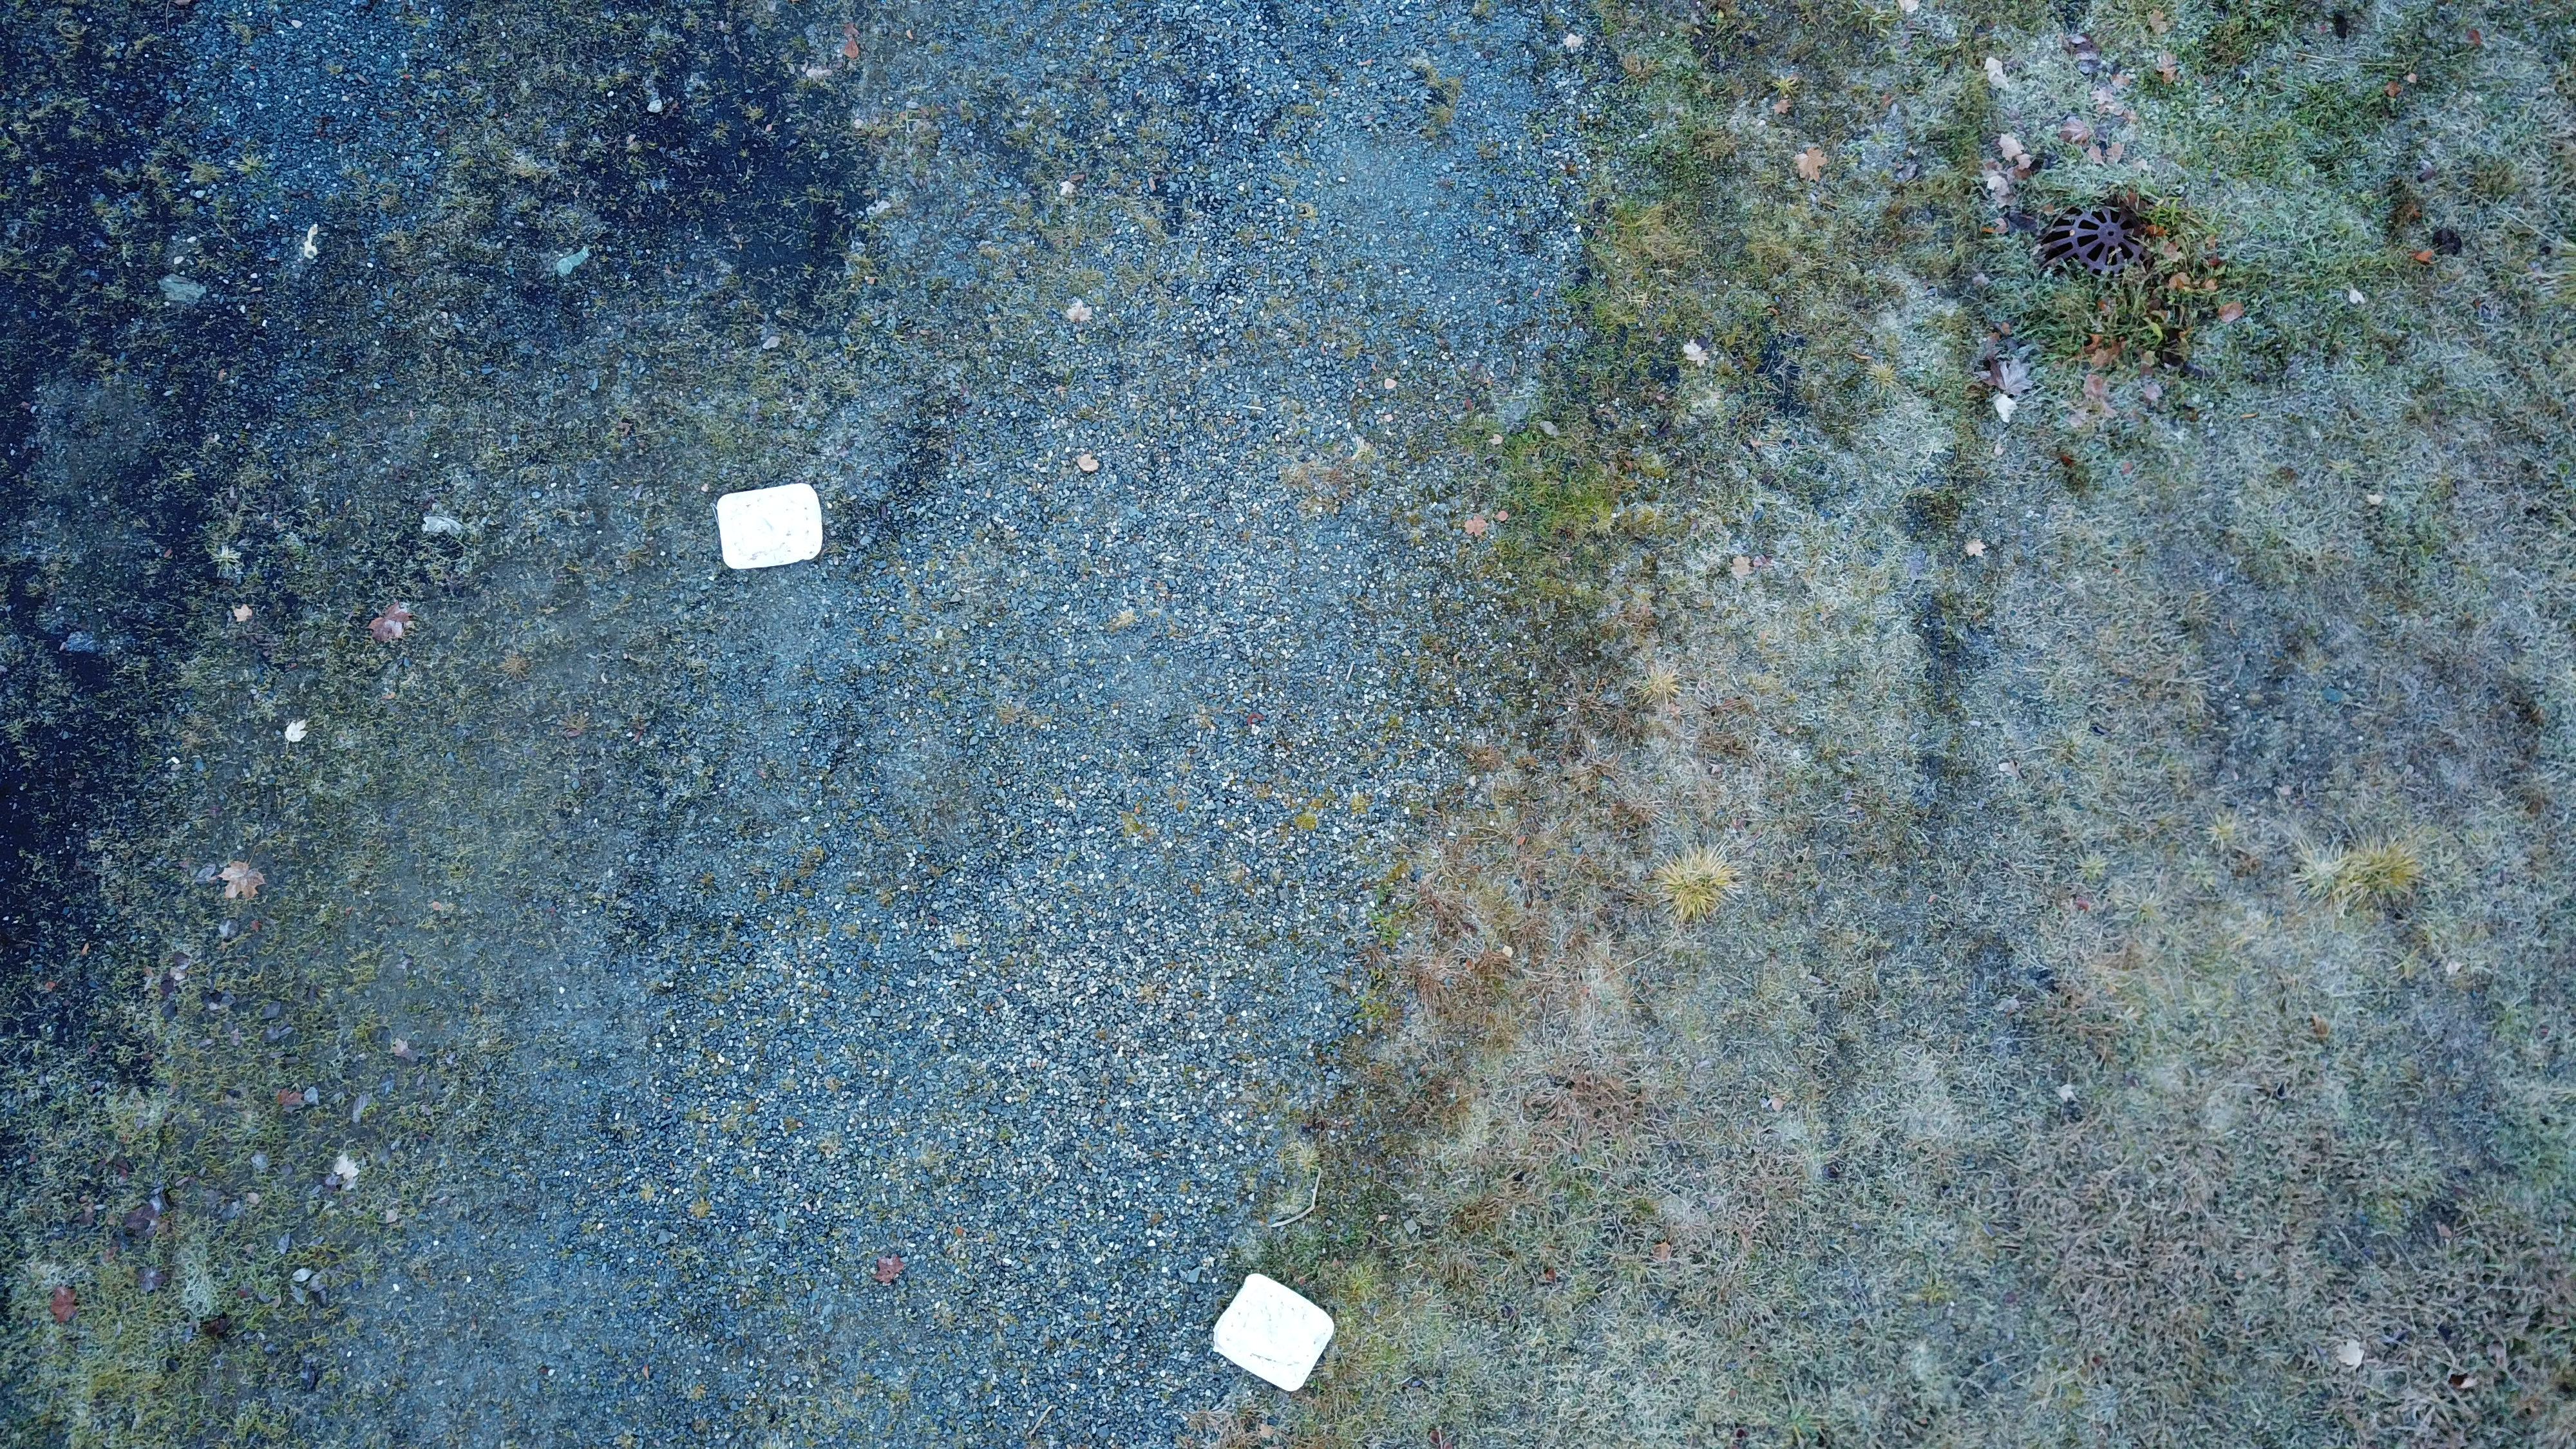Other: (1207, 1267, 1341, 1398), (711, 481, 832, 573)
